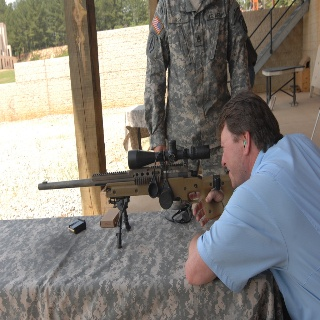rifle: (37, 138, 238, 251)
